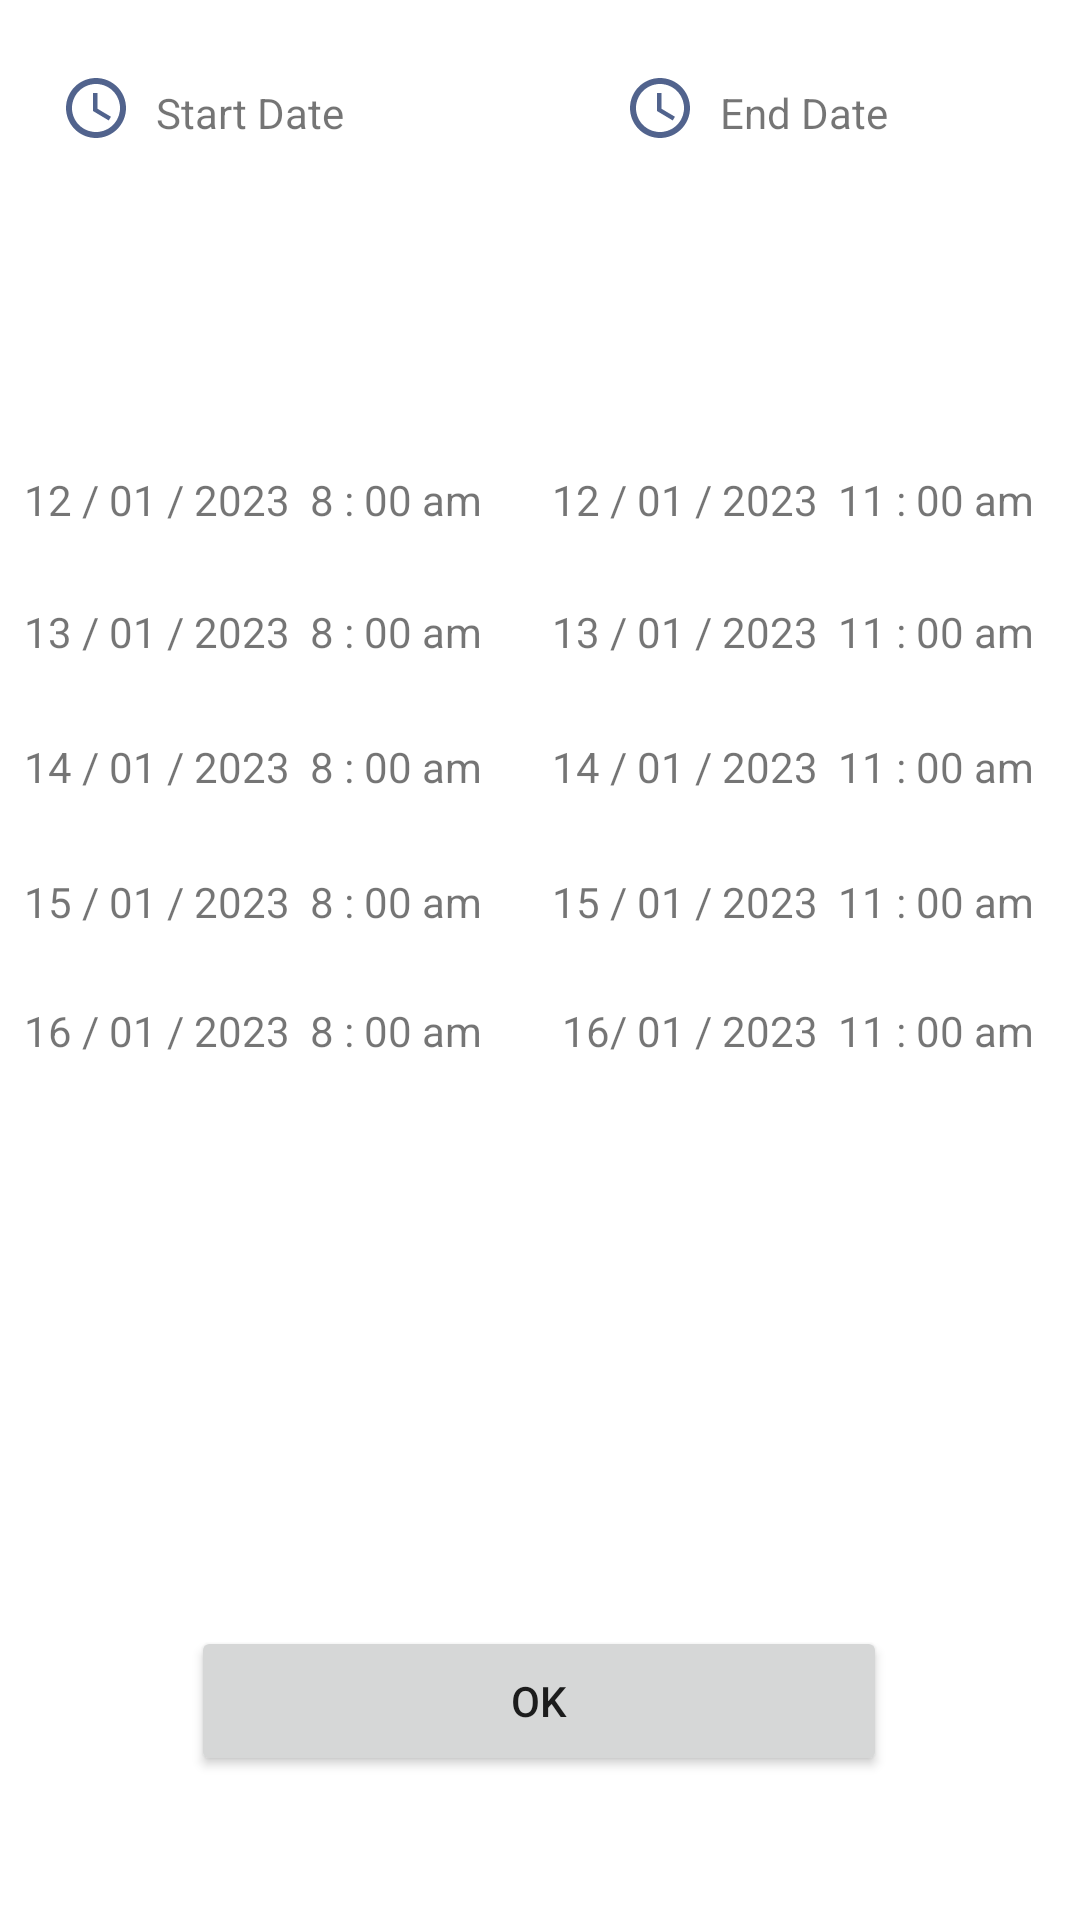

Named icons in this screenshot (1080px×1920px) and their centers, [x,y]:
access time: [96,108], [660,108]
